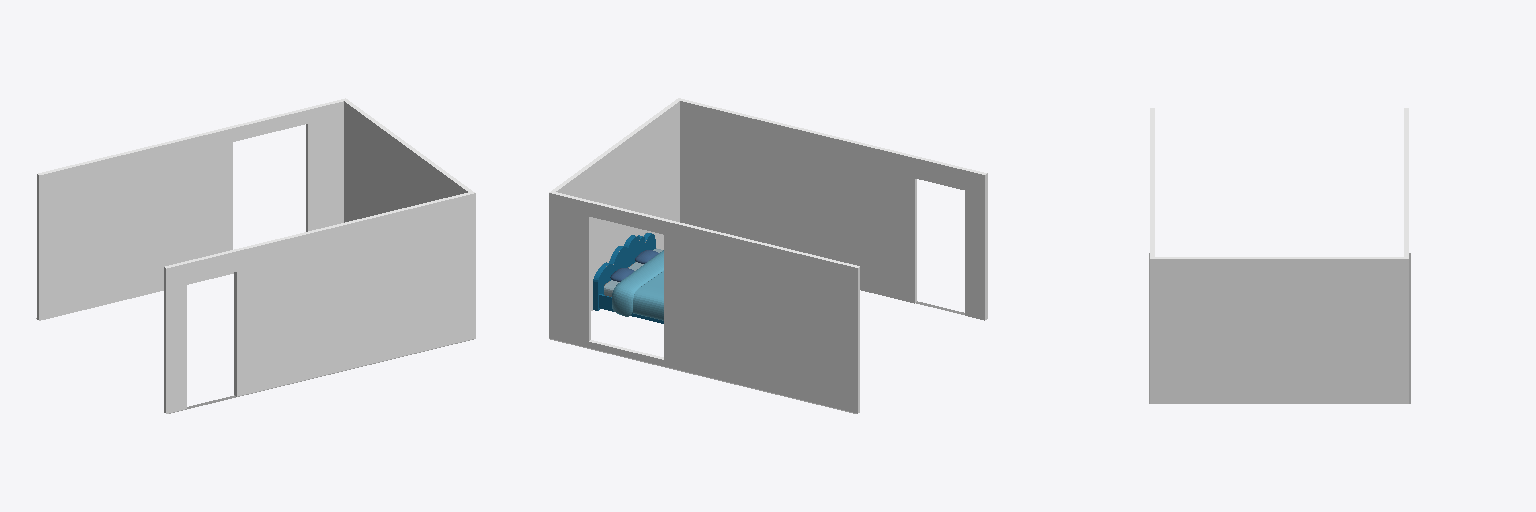
File: bedroom.obj
3 renders of one model, left to right at view 1: azimuth 30°, elevation 25°; view 2: azimuth 150°, elevation 25°; view 3: azimuth 270°, elevation 25°, orthographic.
Visible parts, largest first — view 1: wall_3_15, wall_1_6, wall_2_12; view 2: wall_1_3, wall_3_18, wall_2_12, 21, 26; view 3: wall_2_9.
Boxes of the visible parts, x1,y1,x2,y2 form: wall_3_15: [165, 193, 475, 413]; wall_1_6: [38, 101, 343, 320]; wall_2_12: [344, 101, 467, 222]; wall_1_3: [549, 193, 858, 413]; wall_3_18: [680, 101, 985, 320]; wall_2_12: [556, 101, 679, 310]; 21: [612, 250, 663, 320]; 26: [593, 233, 663, 323]; wall_2_9: [1150, 259, 1408, 403].
Size of the model in its own units: 542 by 244 by 398.